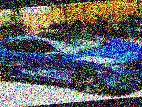car: (0, 22, 142, 103)
